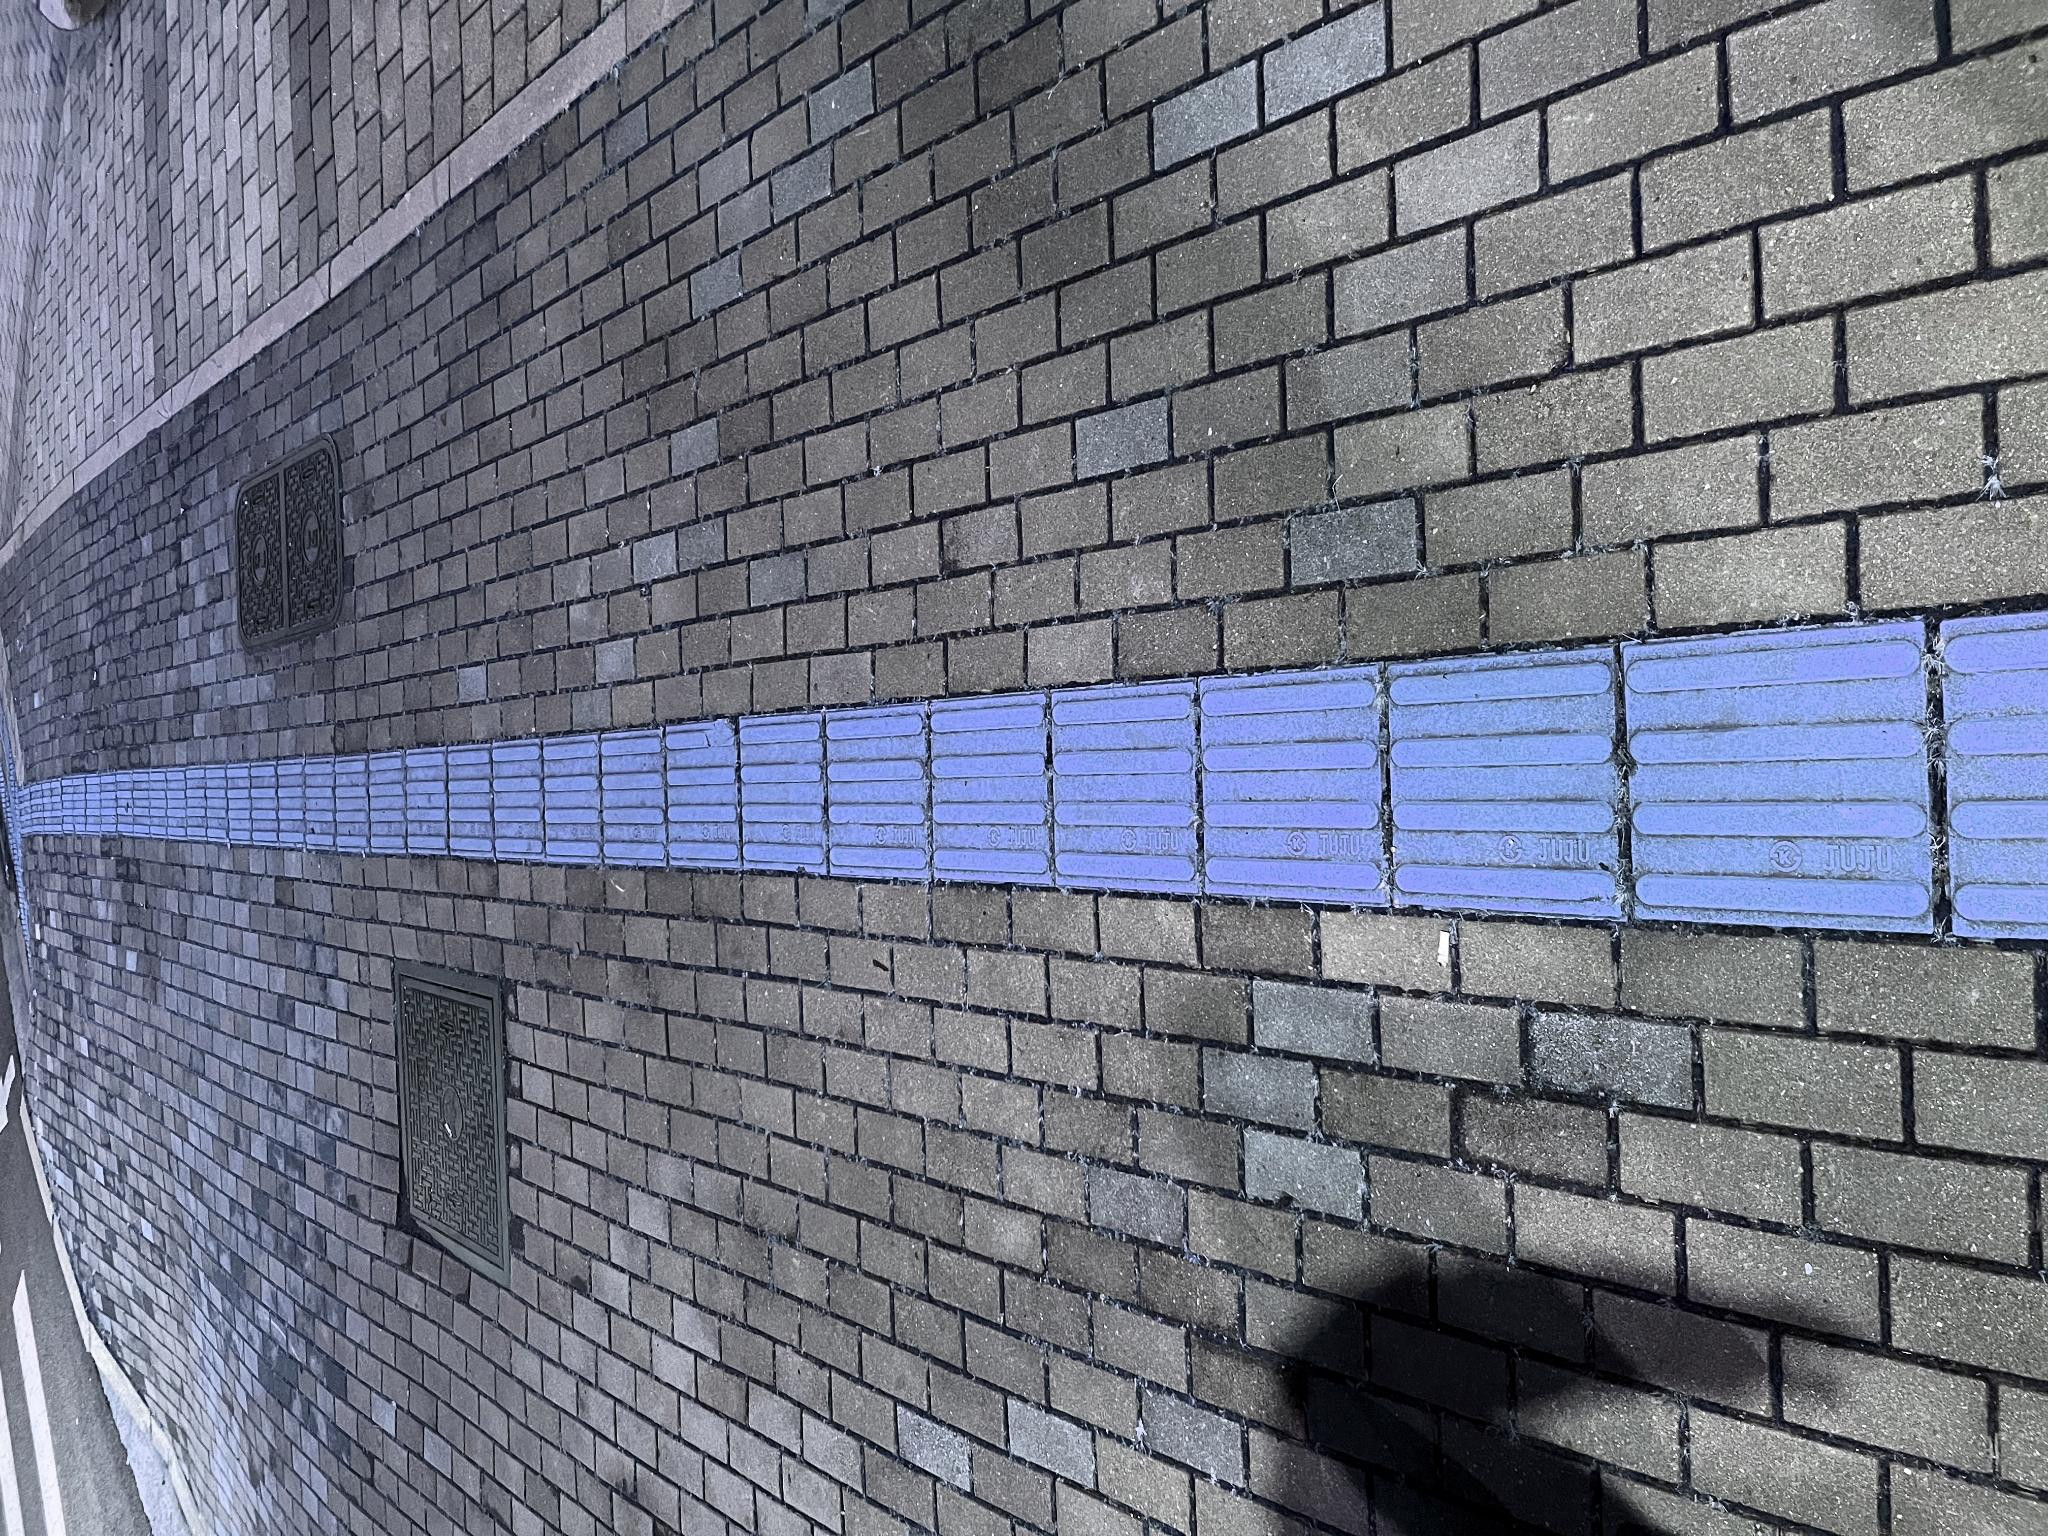Straight block broken: (668, 666, 818, 741)
Straight block normal: (632, 1200, 871, 1389), (624, 1386, 882, 1536), (643, 1052, 855, 1197), (651, 931, 843, 1050), (658, 828, 830, 929), (663, 739, 824, 826)
